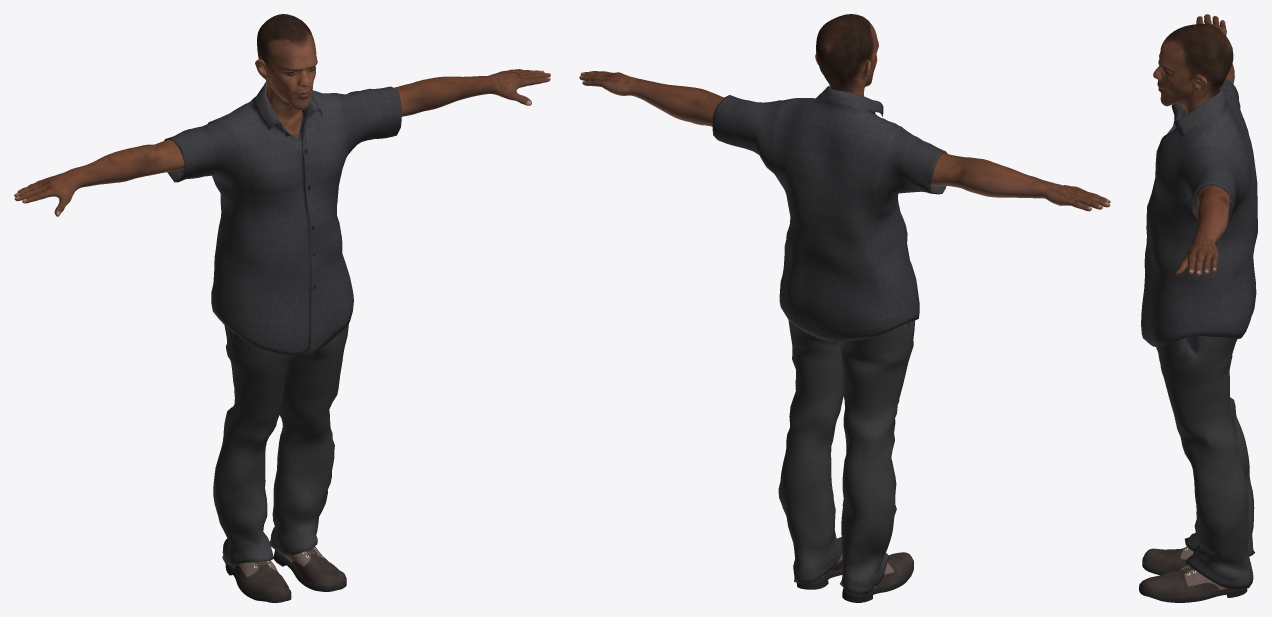
File: Mike_object.obj
3 renders of one model, left to right at view 1: azimuth 30°, elevation 25°; view 2: azimuth 150°, elevation 25°; view 3: azimuth 270°, elevation 25°, orthographic.
Visible parts, largest first — view 1: Tops, Bottoms, Body, Shoes; view 2: Tops, Bottoms, Body, Shoes; view 3: Tops, Bottoms, Body, Shoes.
Part boxes in pixels (bbox=[...]): Tops: bbox=[164, 81, 401, 355]; Bottoms: bbox=[213, 323, 348, 566]; Body: bbox=[14, 14, 550, 216]; Shoes: bbox=[225, 546, 346, 602]; Tops: bbox=[712, 86, 947, 342]; Bottoms: bbox=[778, 320, 915, 595]; Body: bbox=[579, 14, 1110, 211]; Shoes: bbox=[796, 537, 913, 602]; Tops: bbox=[1141, 79, 1257, 347]; Bottoms: bbox=[1156, 336, 1254, 589]; Body: bbox=[1153, 14, 1234, 275]; Shoes: bbox=[1139, 546, 1247, 602].
Bounding box in the file's own units: 176 × 177 × 34.19.
4 materials, 4 textured.
